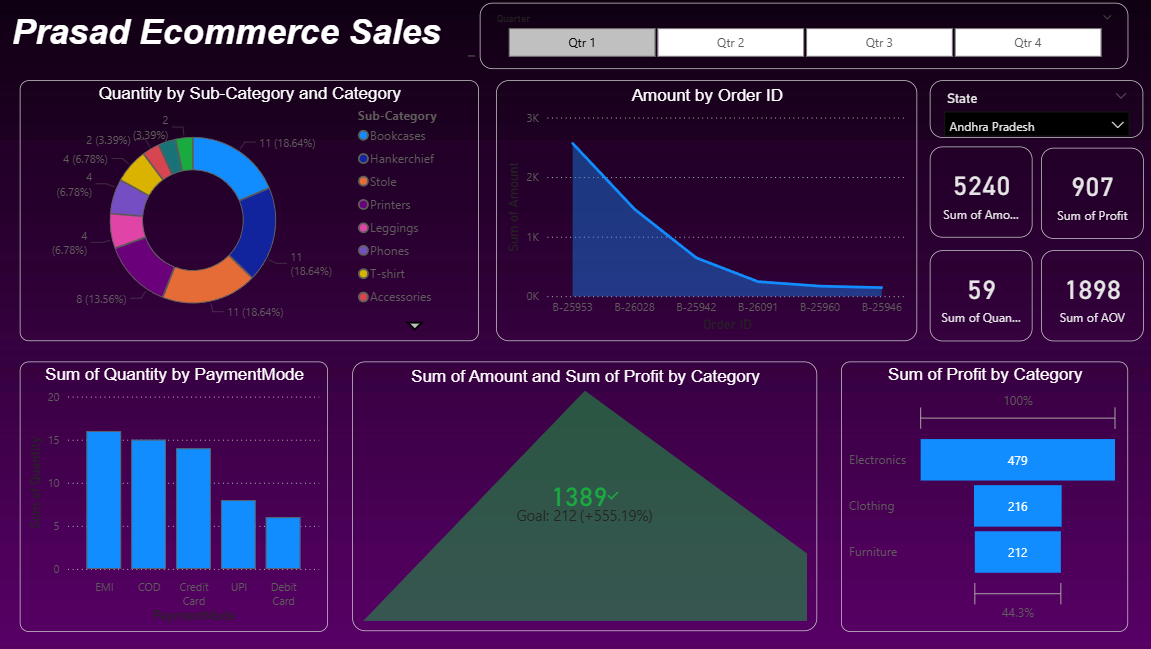

This screenshot's page, from the dashboard's own definition file:
{"tool":"powerbi","page":{"name":"Page 2","canvas":[1280,720],"ordinal":1},"visuals":[{"type":"textbox","title":"Prasad Ecommerce Sales","box":[23.3,19.2,518.7,54.9],"z":0},{"type":"donutChart","title":" Quantity by Sub-Category and Category","fields":{"Category":["Details.Sub-Category"],"Series":["Details.Category"],"Y":["Details.Quantity"]},"box":[37,94.7,503.6,286.8],"z":1000},{"type":"stackedAreaChart","title":" Amount by Order ID","fields":{"Category":["Details.Order ID"],"Y":["Details.Amount"]},"box":[559.9,94.7,462.4,286.8],"z":2000},{"type":"columnChart","fields":{"Category":["Details.PaymentMode"],"Y":["Details.Quantity"]},"box":[36.7,403.3,338.3,296.7],"z":3000},{"type":"funnel","fields":{"Y":["Details.Profit"],"Category":["Details.Category"]},"box":[938.3,403.3,315,296.7],"z":4000},{"type":"card","fields":{"Values":["Details.Amount"]},"box":[1036,167.4,112.5,100.2],"z":5000},{"type":"card","fields":{"Values":["Details.Profit"]},"box":[1158.2,168.8,112.5,100.2],"z":6000},{"type":"card","fields":{"Values":["Details.Quantity"]},"box":[1036,281.3,112.5,100.2],"z":7000},{"type":"card","fields":{"Values":["Details.AOV"]},"box":[1158.2,281.3,112.5,100.2],"z":8000},{"type":"kpi","fields":{"Indicator":["Details.Amount"],"TrendLine":["Details.Category"],"Goal":["Details.Profit"]},"box":[402.1,403.4,510.5,296.4],"z":9000},{"type":"slicer","fields":{"Values":["Orders.Order Date.Variation.Date Hierarchy.Quarter"]},"box":[542,9.6,712.2,72.7],"z":10000},{"type":"slicer","fields":{"Values":["Orders.State"]},"box":[1036,94.7,234.6,63.1],"z":11000}]}

Visuals, with their boxes in screenshot pixels (x1, y1, x2, y2), scaled from the page's 1280x720 canvas onto the 1151x649 screenshot:
"Prasad Ecommerce Sales" textbox: (21, 17, 487, 67)
" Quantity by Sub-Category and Category" donutChart: (33, 85, 486, 344)
" Amount by Order ID" stackedAreaChart: (503, 85, 919, 344)
columnChart - Details.PaymentMode x Details.Quantity: (33, 364, 337, 631)
funnel - Details.Profit x Details.Category: (844, 364, 1127, 631)
card - Details.Amount: (932, 151, 1033, 241)
card - Details.Profit: (1041, 152, 1143, 242)
card - Details.Quantity: (932, 254, 1033, 344)
card - Details.AOV: (1041, 254, 1143, 344)
kpi - Details.Amount x Details.Category: (362, 364, 821, 631)
slicer - Orders.Order Date.Variation.Date Hierarchy.Quarter: (487, 9, 1128, 74)
slicer - Orders.State: (932, 85, 1143, 142)
